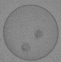small: (21, 42, 32, 51), (34, 30, 43, 39)
